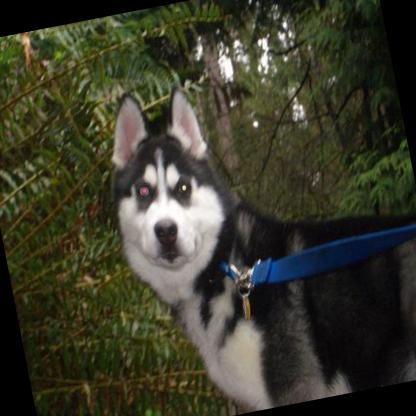Siberian_husky: (89, 38, 416, 416)
